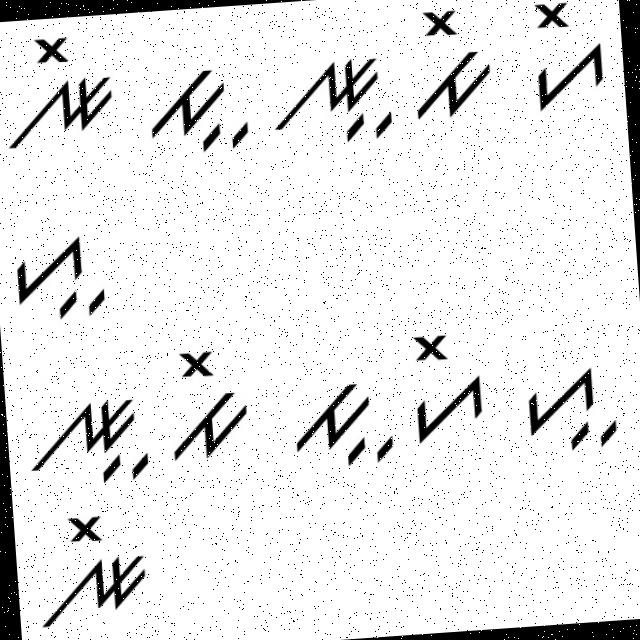hah: (6, 222, 114, 328), (508, 362, 624, 460)
ho: (403, 327, 493, 448), (524, 0, 611, 124)
mbah: (280, 364, 398, 477), (136, 54, 254, 164)
mbo: (161, 342, 253, 474), (398, 0, 496, 123)
ndah: (19, 376, 154, 499), (258, 40, 396, 156)
ndo: (0, 30, 127, 154), (27, 508, 152, 629)
